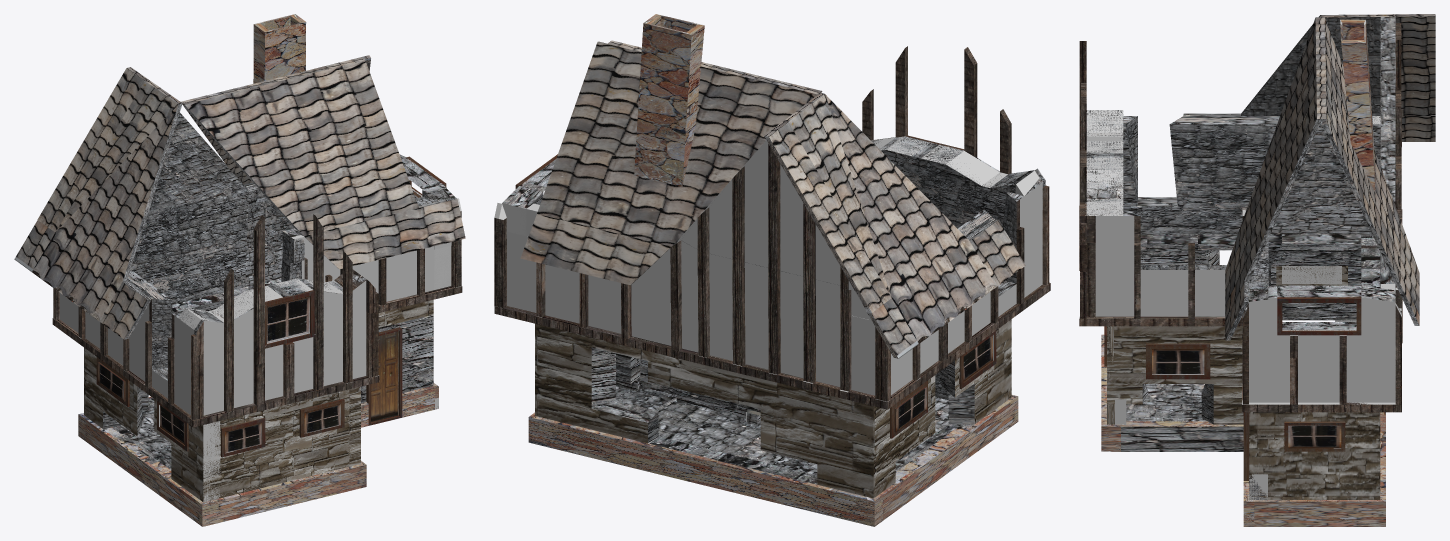
The model's file is hitties-construct.fbx.
The picture shows the model from 3 angles, left to right: view 1: azimuth 30°, elevation 25°; view 2: azimuth 150°, elevation 25°; view 3: azimuth 270°, elevation 25°; orthographic projection. The views are drawn at different scales.
Visible parts, largest first — view 1: Cube; view 2: Cube; view 3: Cube.
Boxes of the visible parts, x1=… form: Cube: x1=14, y1=14, x2=465, y2=526; Cube: x1=494, y1=14, x2=1050, y2=526; Cube: x1=1079, y1=14, x2=1435, y2=526.
Bounding box in the file's own units: 1508 × 1496 × 1115.
